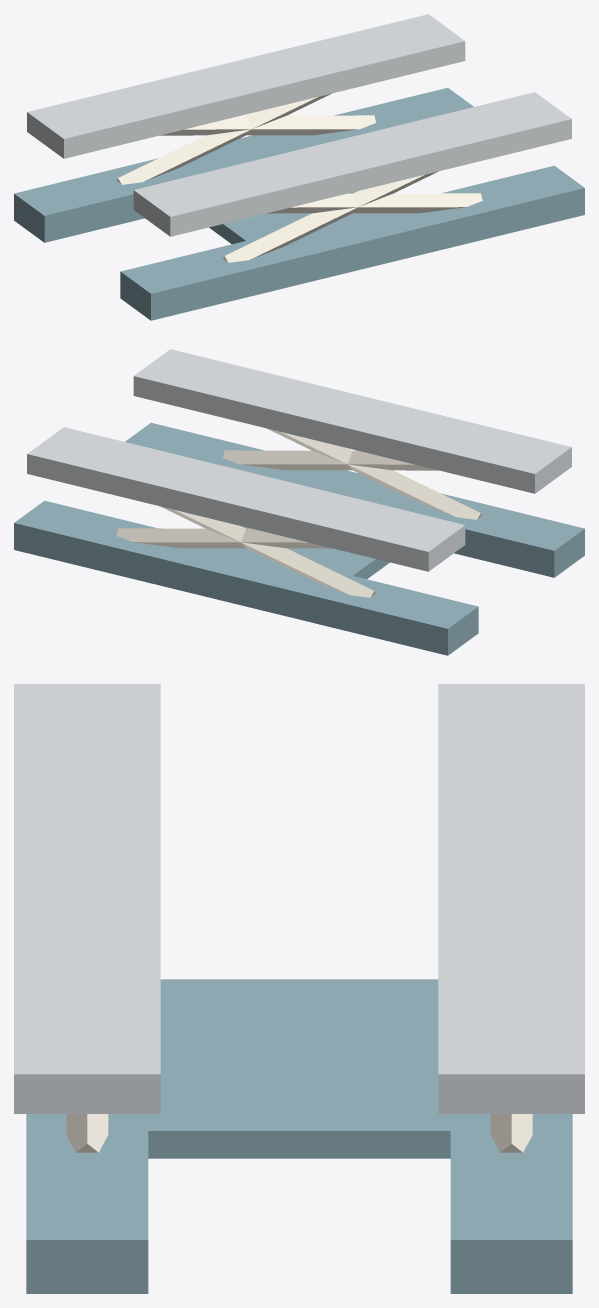
Rendered from prop_vehicle_lift_v4_ShadowProxy.glb.
3 renders of one model, top to bottom at view 1: azimuth 30°, elevation 25°; view 2: azimuth 150°, elevation 25°; view 3: azimuth 270°, elevation 25°, orthographic. The views are drawn at different scales.
Visible parts, largest first — view 1: prop_vehicle_lift_v4_ShadowProxy / Primary assembly; view 2: prop_vehicle_lift_v4_ShadowProxy / Primary assembly; view 3: prop_vehicle_lift_v4_ShadowProxy / Primary assembly.
Boxes of the visible parts, <box> form: prop_vehicle_lift_v4_ShadowProxy / Primary assembly: <box>14,14,584,320</box>; prop_vehicle_lift_v4_ShadowProxy / Primary assembly: <box>14,349,584,655</box>; prop_vehicle_lift_v4_ShadowProxy / Primary assembly: <box>14,684,584,1293</box>.
Bounding box in the file's own units: 3.2 × 0.72 × 1.83.
